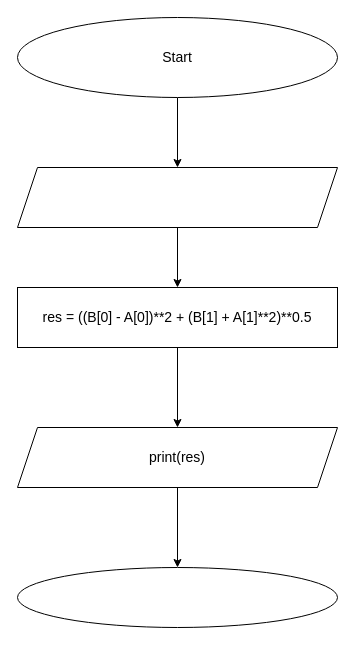
Image size: 355x645. Some labels were removed from this diagram. Each missing label, with the centre of its shape:
"Введите координаты точек A и B" A = [input(), input()] B = [input(), input()]: (x=177, y=197)
End: (x=177, y=597)
